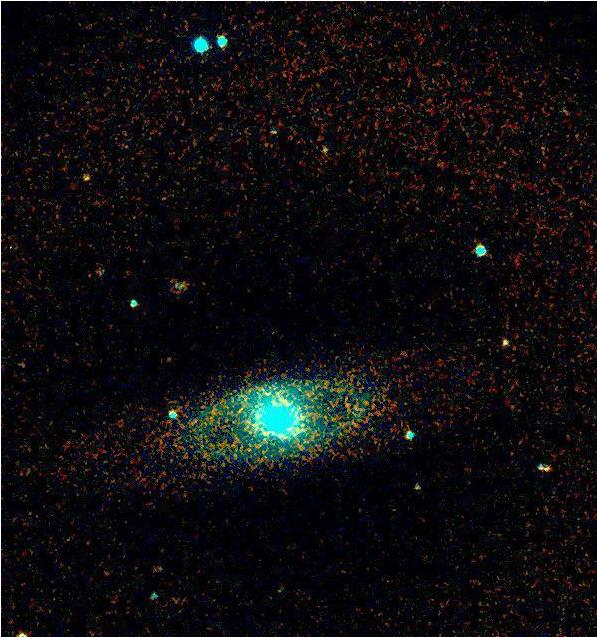star: (493, 328, 523, 358)
